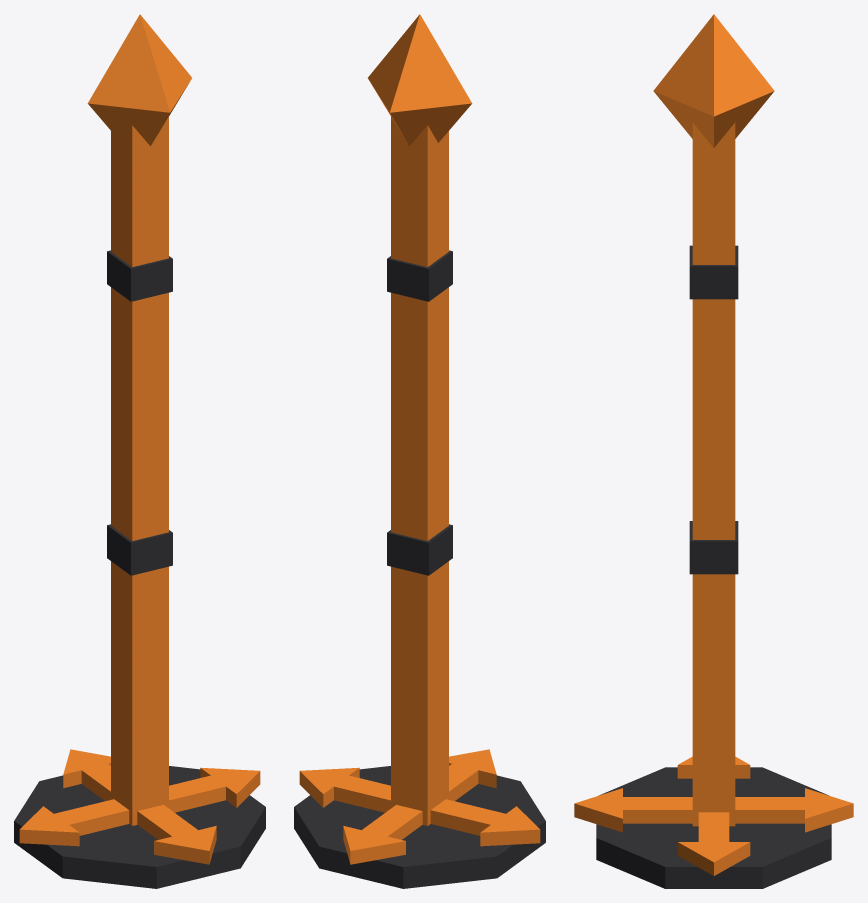
The model's file is SM_BXCornerPost.fbx.
3 views of the same model, side by side, from view 1: azimuth 30°, elevation 25°; view 2: azimuth 150°, elevation 25°; view 3: azimuth 270°, elevation 25° (orthographic).
Parts seen in each view (by area): view 1: SM_BXCornerPost; view 2: SM_BXCornerPost; view 3: SM_BXCornerPost.
Boxes of the visible parts, left/top/right/bottom form: SM_BXCornerPost: left=14, top=14, right=265, bottom=888; SM_BXCornerPost: left=294, top=14, right=545, bottom=888; SM_BXCornerPost: left=574, top=14, right=853, bottom=888.
Size of what is drawn, in the model's own units: 92 by 300 by 92.
